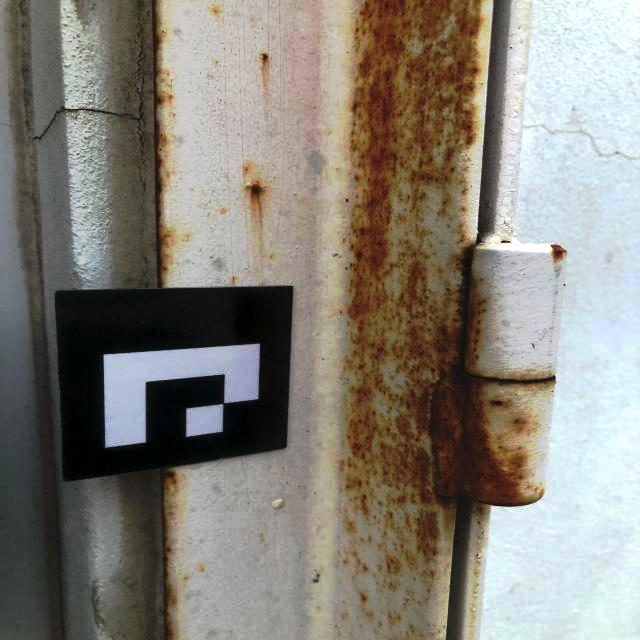Corrosion: (342, 0, 556, 619), (151, 0, 175, 289), (161, 467, 180, 640), (550, 242, 567, 260), (248, 181, 264, 196), (261, 52, 269, 62)
